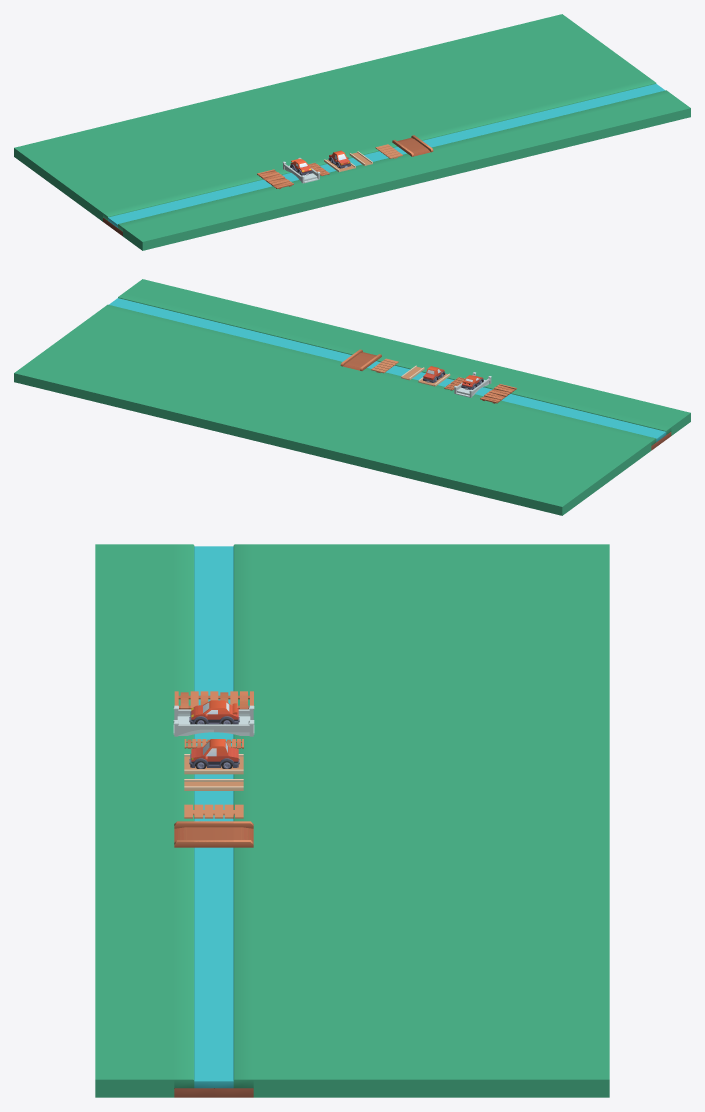
The model's file is world.glb.
3 views of the same model, one above another, from view 1: azimuth 30°, elevation 25°; view 2: azimuth 150°, elevation 25°; view 3: azimuth 270°, elevation 25° (orthographic). The views are drawn at different scales.
Parts seen in each view (by area): view 1: square_forest11; view 2: square_forest; view 3: square_forest343, square_forest348, square_forest351, square_forest342, square_forest344, square_forest345, square_forest346, square_forest347, square_forest349, square_forest350, square_forest352, square_forest_waterStraight63 (+6 smaller).
Boxes of the visible parts, x1,y1,x2,y2 form: square_forest11: [132, 230, 159, 250]; square_forest: [545, 495, 572, 515]; square_forest343: [530, 1063, 570, 1097]; square_forest348: [332, 1063, 372, 1097]; square_forest351: [134, 1063, 174, 1097]; square_forest342: [570, 1063, 609, 1097]; square_forest344: [491, 1063, 530, 1097]; square_forest345: [451, 1063, 490, 1097]; square_forest346: [412, 1063, 451, 1097]; square_forest347: [372, 1063, 411, 1097]; square_forest349: [293, 1063, 332, 1097]; square_forest350: [253, 1063, 292, 1097]; square_forest352: [95, 1063, 134, 1097]; square_forest_waterStraight63: [214, 1063, 253, 1097].
Size of the model in its own units: 64 by 2.35 by 26.
Materials: 15 (6 with a texture image).
